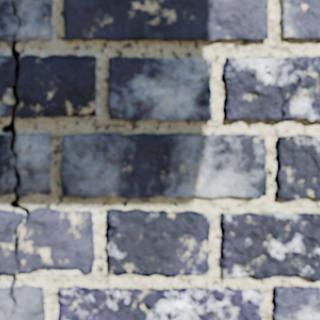brick: (61, 134, 267, 198), (64, 0, 268, 39), (58, 285, 264, 319), (219, 212, 319, 281), (106, 210, 210, 276), (108, 58, 212, 120), (222, 55, 319, 120), (276, 136, 319, 200), (272, 286, 319, 319), (281, 0, 319, 38)
broken_brick: (19, 207, 96, 275), (17, 54, 97, 119), (0, 0, 53, 44), (16, 133, 51, 196), (0, 285, 46, 319), (0, 209, 22, 276), (0, 134, 15, 196), (0, 55, 14, 117)
crack: (0, 2, 31, 317), (264, 64, 304, 121), (106, 219, 118, 237), (109, 269, 125, 275), (209, 62, 213, 68)
